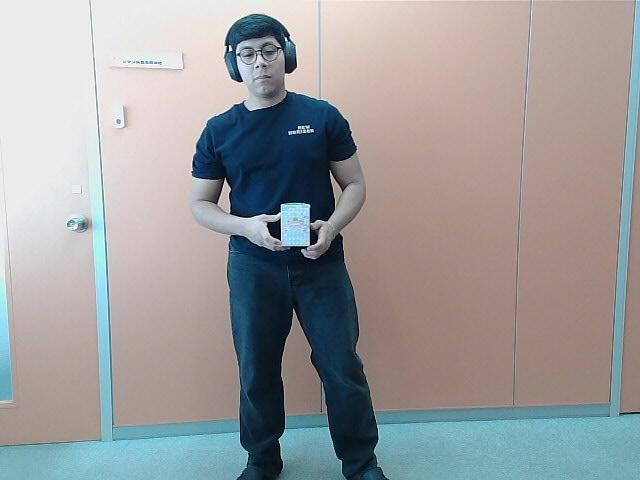Blind_box: (282, 200, 314, 246)
